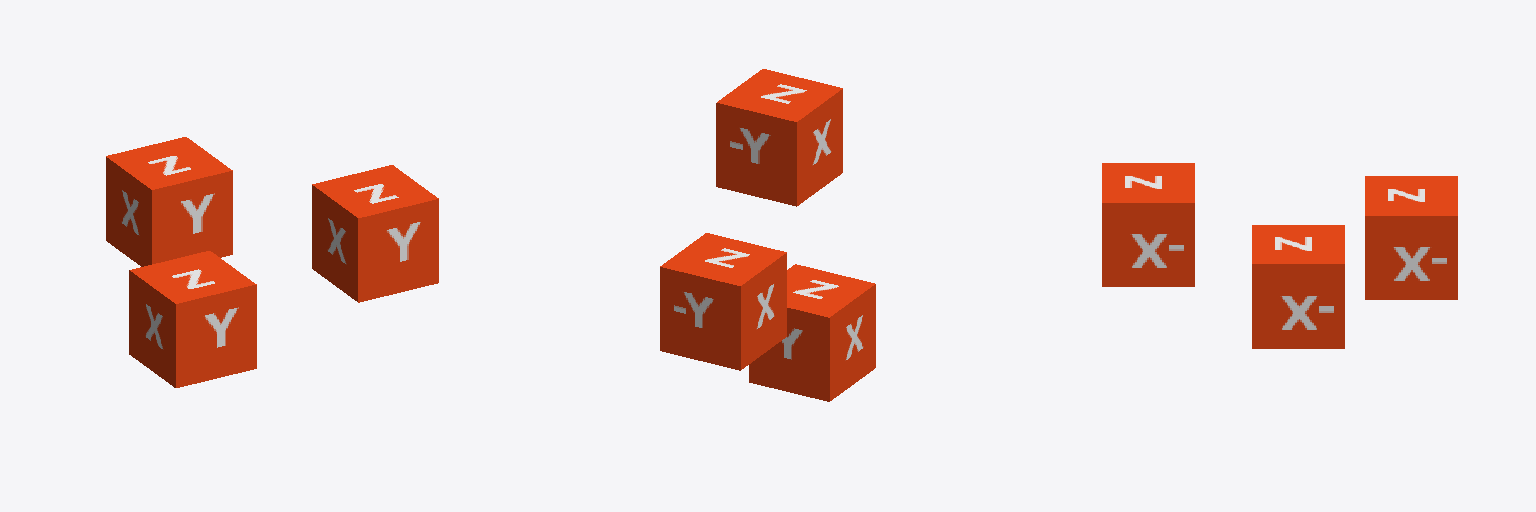
3 renders of one model, left to right at view 1: azimuth 30°, elevation 25°; view 2: azimuth 150°, elevation 25°; view 3: azimuth 270°, elevation 25°, orthographic.
Visible parts, largest first — view 1: Cube_Cube.008, Cube_Cube.001, Cube_Cube.000; view 2: Cube_Cube.000, Cube_Cube.001, Cube_Cube.008; view 3: Cube_Cube.001, Cube_Cube.000, Cube_Cube.008.
Boxes of the visible parts, <box> form: Cube_Cube.008: <box>129,251,256,387</box>; Cube_Cube.001: <box>312,165,438,302</box>; Cube_Cube.000: <box>106,137,232,266</box>; Cube_Cube.000: <box>660,233,786,370</box>; Cube_Cube.001: <box>716,69,842,206</box>; Cube_Cube.008: <box>749,264,875,401</box>; Cube_Cube.001: <box>1102,163,1194,286</box>; Cube_Cube.000: <box>1365,176,1457,299</box>; Cube_Cube.008: <box>1252,225,1344,348</box>.
Bounding box in the file's own units: 2.33 × 2.36 × 3.82.
1 materials, 1 textured.